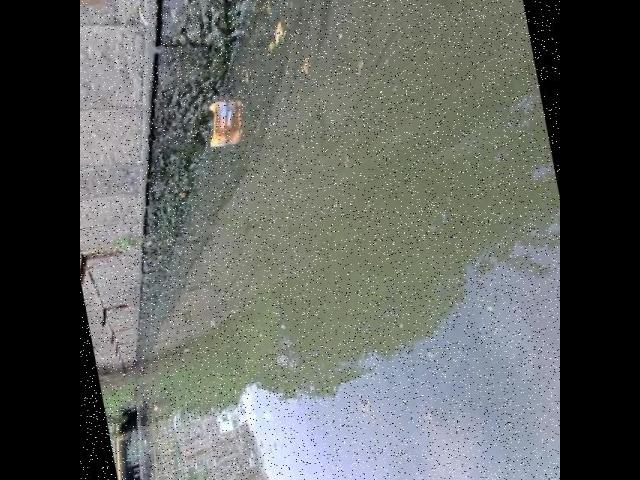Waste: (207, 96, 234, 154)
